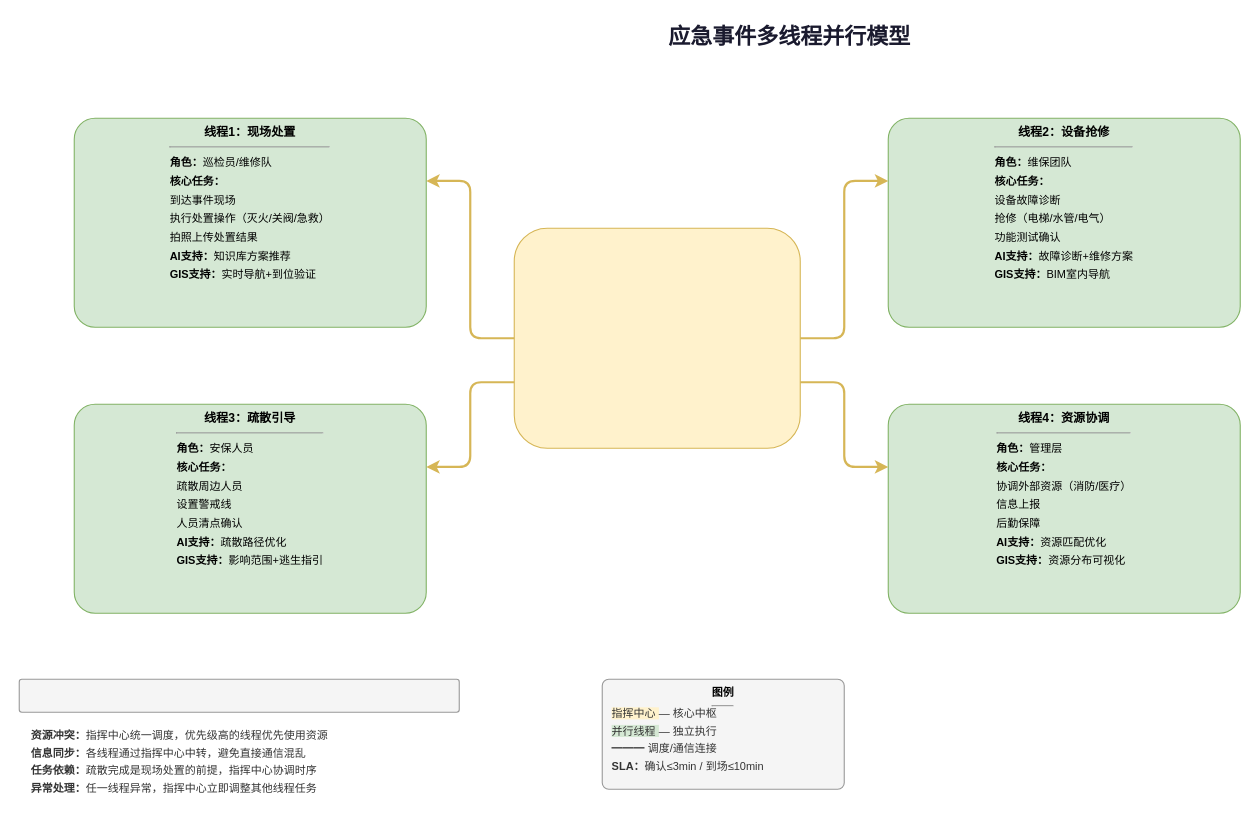
Some shapes in this 1260 by 824 pixel diagram are drawn without their labels. Here are the shapes that lost their labels. From the top down, the box of each, then its label:
(513, 227, 800, 448): 指挥中心（态势地图） 统一调度指挥中枢 事件定级 & 资源调度 GIS缓冲区分析 AI预案匹配 实时态势监控
(18, 678, 459, 712): 线程间协同规则
